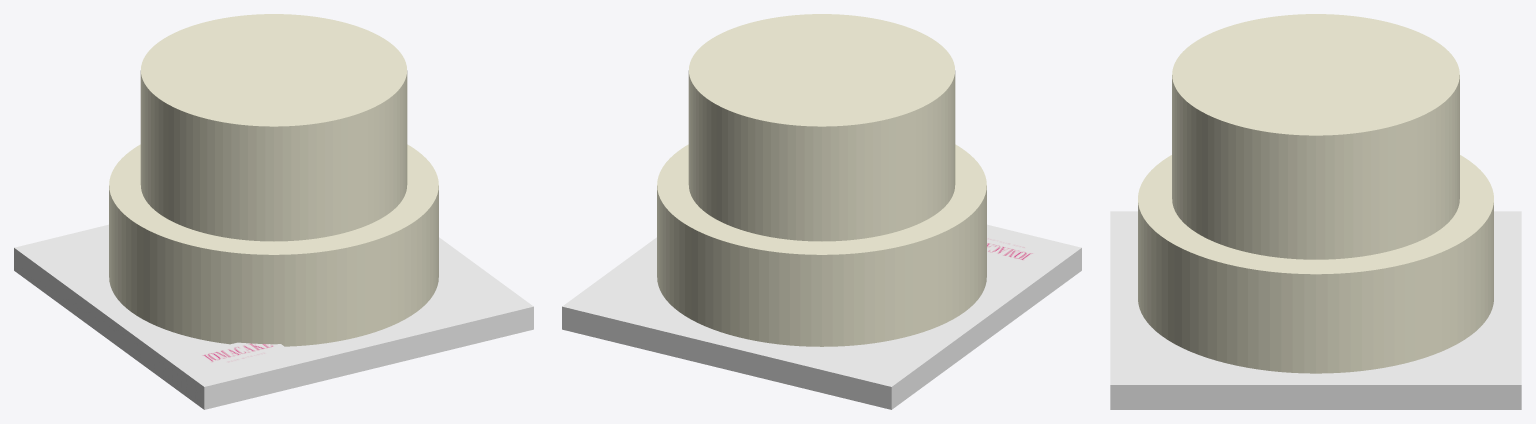
Rendered from cake_tier2_10-8_layers2_v34.glb.
The picture shows the model from 3 angles, left to right: view 1: azimuth 30°, elevation 25°; view 2: azimuth 150°, elevation 25°; view 3: azimuth 270°, elevation 25°; orthographic projection. The views are drawn at different scales.
Visible parts, largest first — view 1: Tier1, Tier0, Board, Logo; view 2: Tier1, Tier0, Board, Logo; view 3: Tier1, Tier0, Board.
Boxes of the visible parts, <box> form: Tier1: <box>140,14,407,241</box>; Tier0: <box>109,144,438,346</box>; Board: <box>14,224,533,409</box>; Logo: <box>190,342,291,370</box>; Tier1: <box>688,14,955,241</box>; Tier0: <box>657,144,986,346</box>; Board: <box>562,224,1081,409</box>; Logo: <box>987,233,1049,265</box>; Tier1: <box>1172,14,1459,259</box>; Tier0: <box>1138,155,1493,373</box>; Board: <box>1110,211,1521,409</box>.
Bounding box in the file's own units: 0.3 × 0.2 × 0.3.
